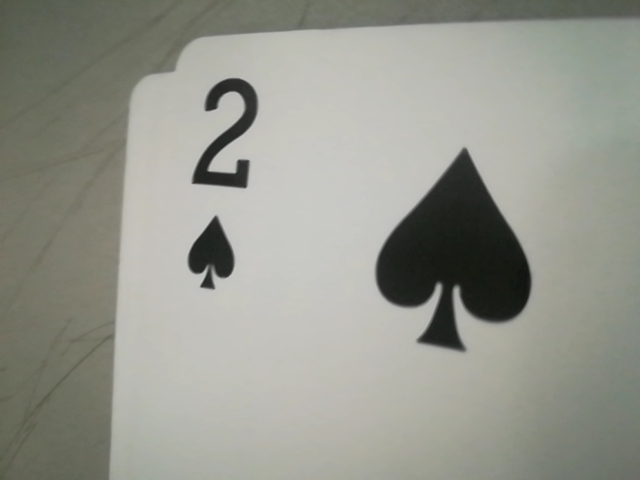ht 2: (178, 53, 271, 302)
